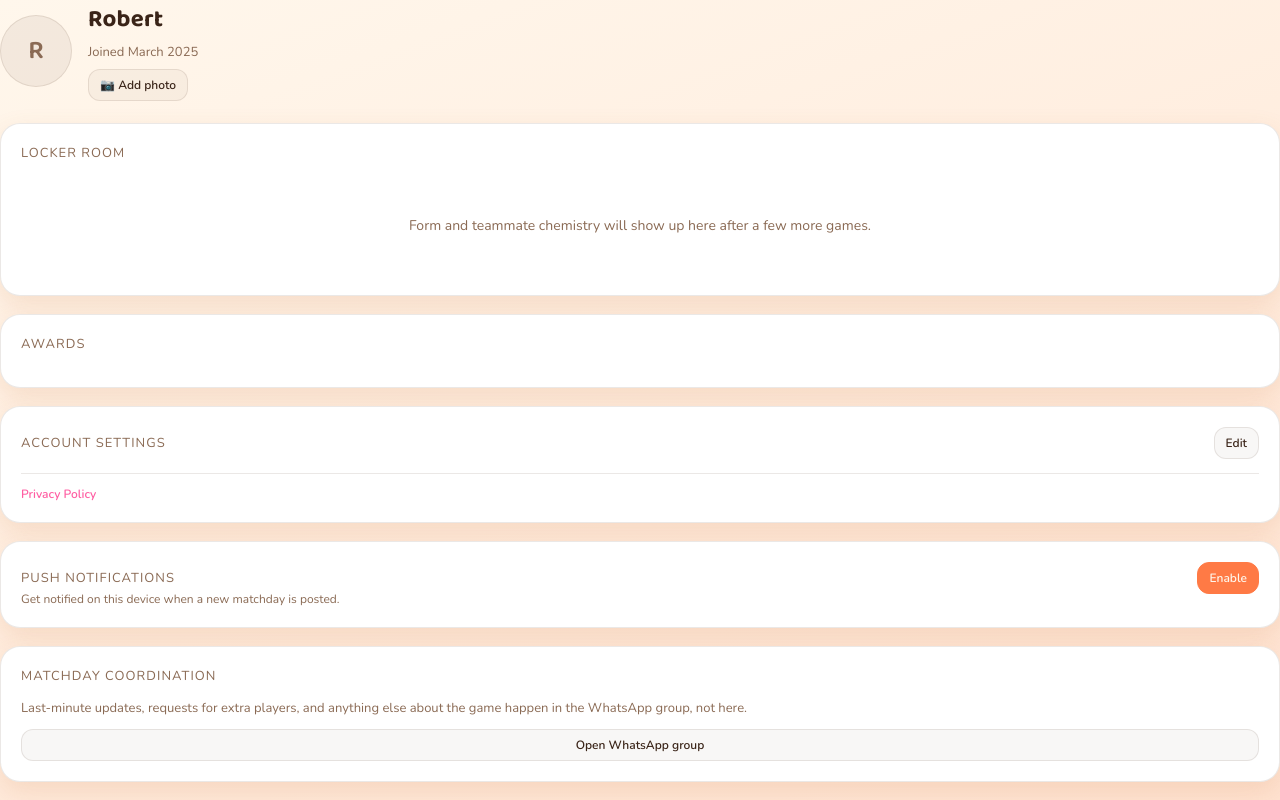
PlayerProfile - push notifications › shows why enabling failed, e.g. permission denied
What coordinates should you click on to do the following:
click the button "Enable"
I would click on:
 (1228, 578)
Its box is left=1197, top=562, right=1259, bottom=594.
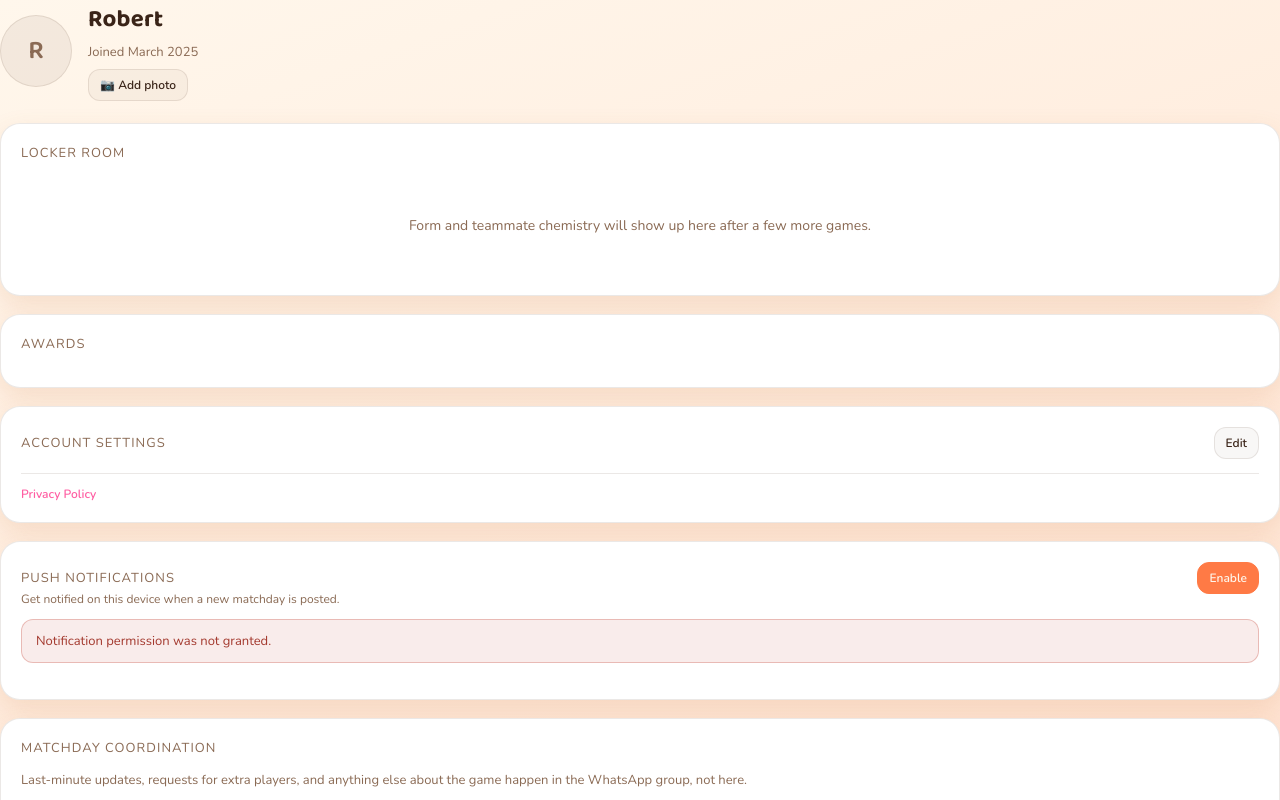
expect the text "Notification permission was not granted." is shown: met, box left=21, top=619, right=1259, bottom=663
